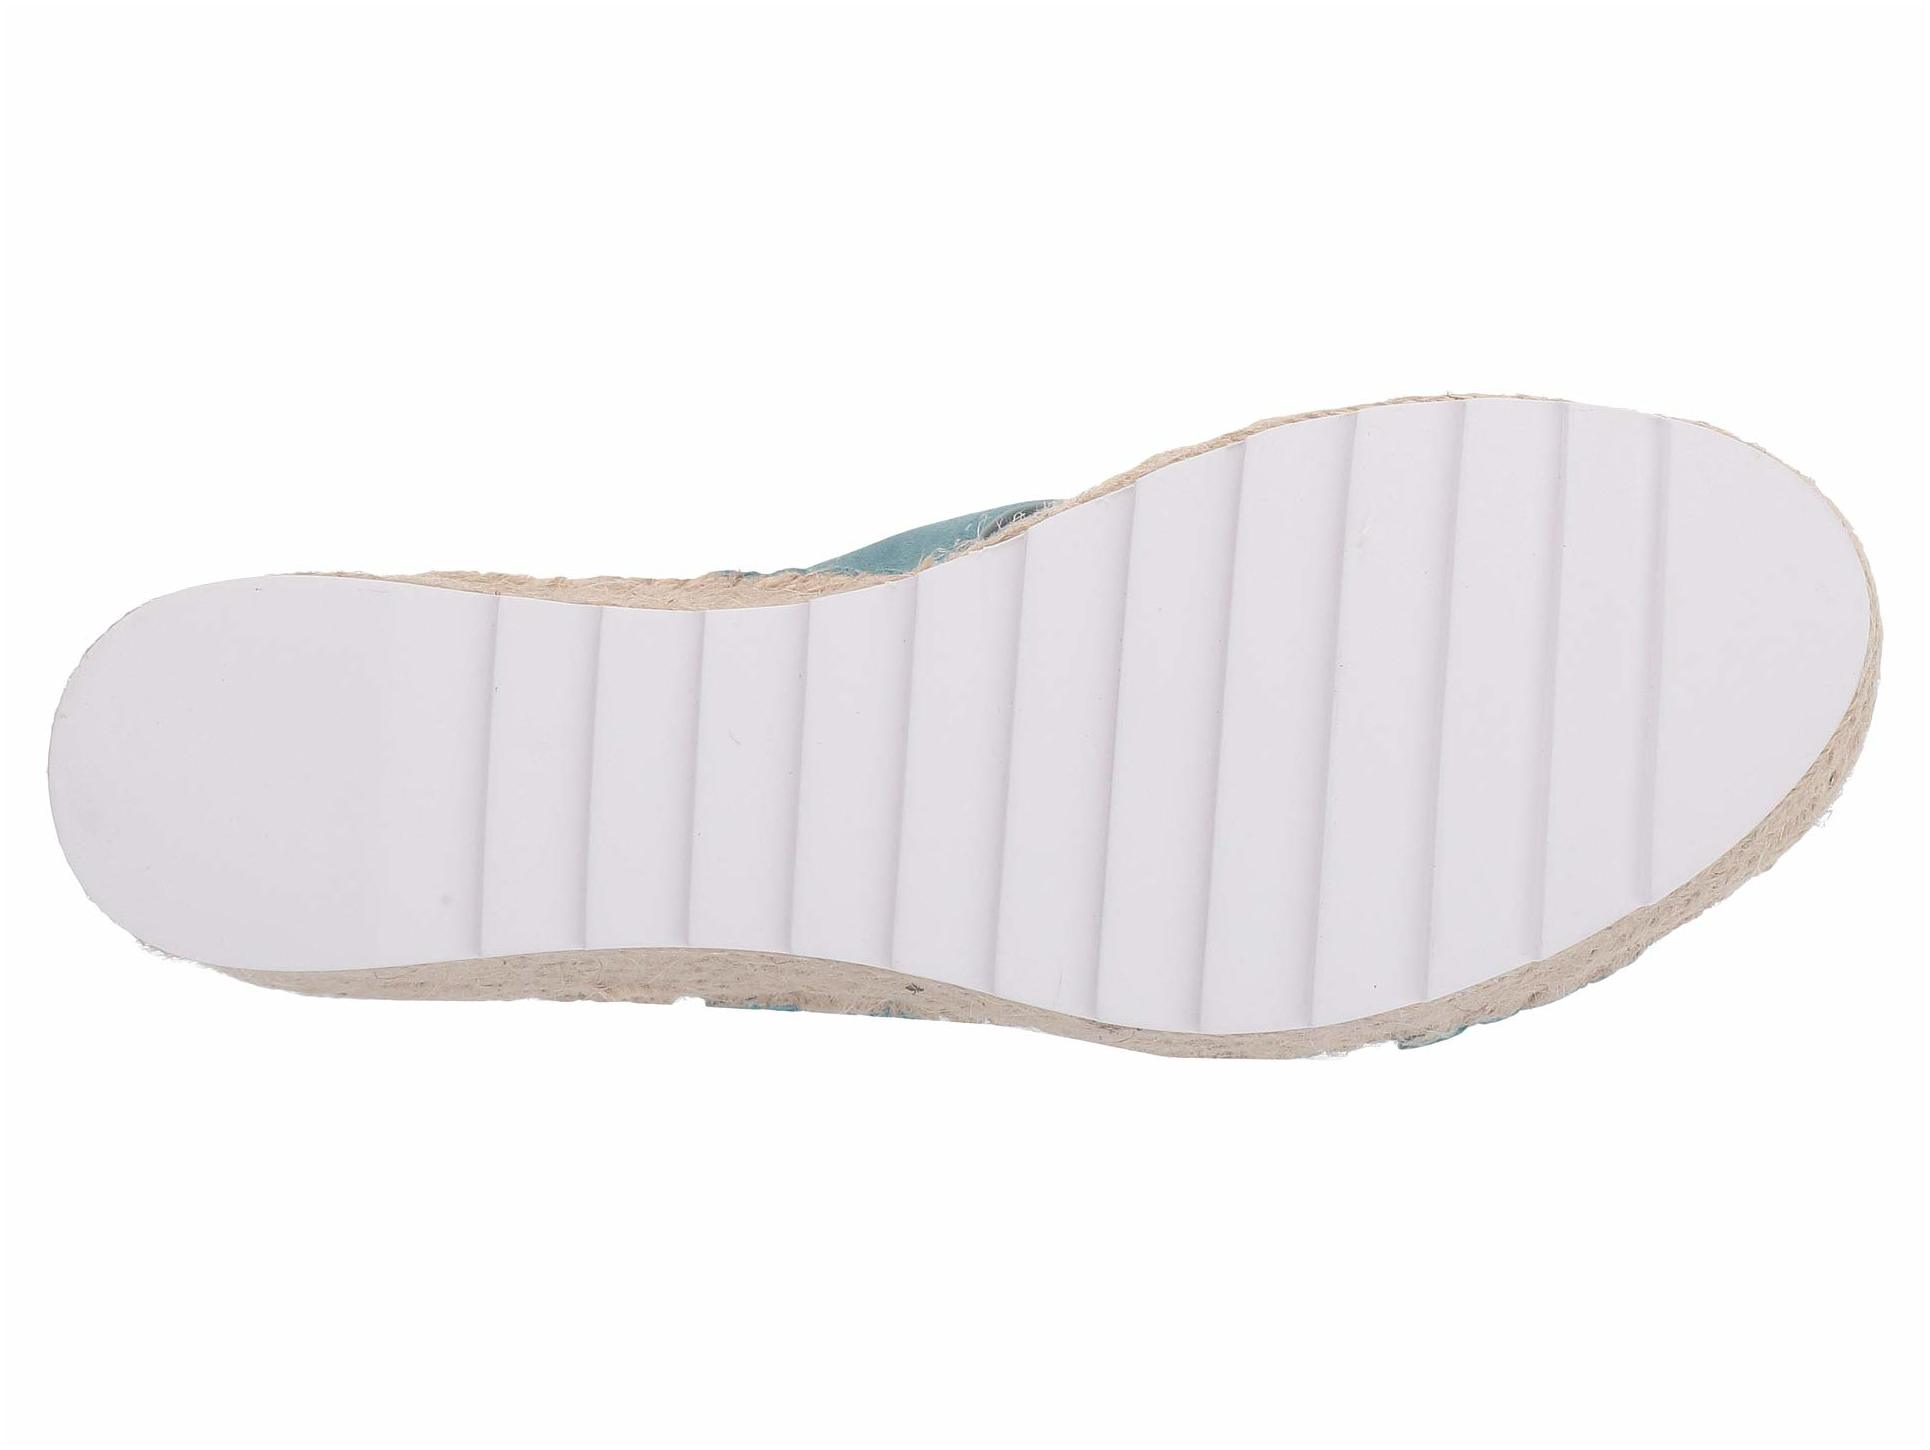line: (1068, 507, 1540, 949)
